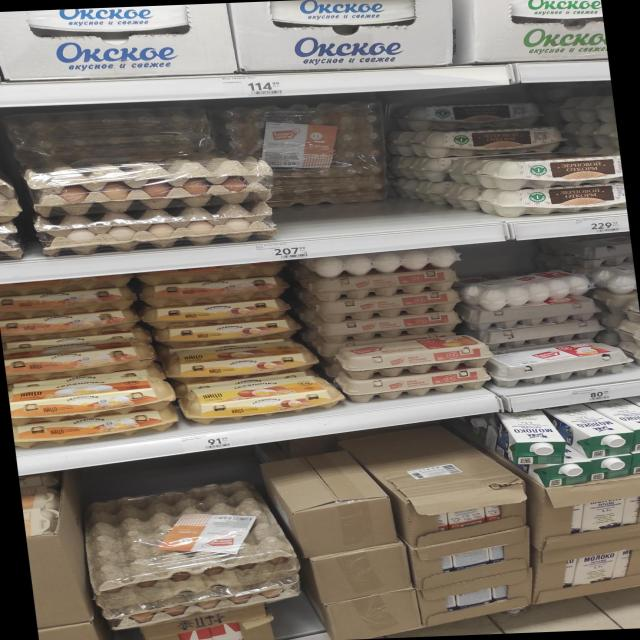organic waste: (181, 374, 346, 423), (7, 375, 175, 422), (332, 333, 492, 378), (2, 336, 158, 380), (482, 340, 638, 384), (11, 409, 179, 449), (162, 339, 321, 379), (471, 153, 623, 191), (338, 367, 496, 403), (546, 401, 637, 461), (484, 405, 569, 467), (474, 184, 626, 218), (411, 126, 571, 158), (23, 5, 187, 36), (391, 99, 548, 131), (315, 310, 466, 342), (308, 269, 460, 300), (142, 276, 288, 308), (267, 0, 420, 30), (142, 299, 288, 328), (0, 309, 141, 339), (150, 318, 301, 346), (311, 294, 462, 321), (0, 289, 142, 317), (502, 0, 604, 25), (598, 393, 640, 453)
